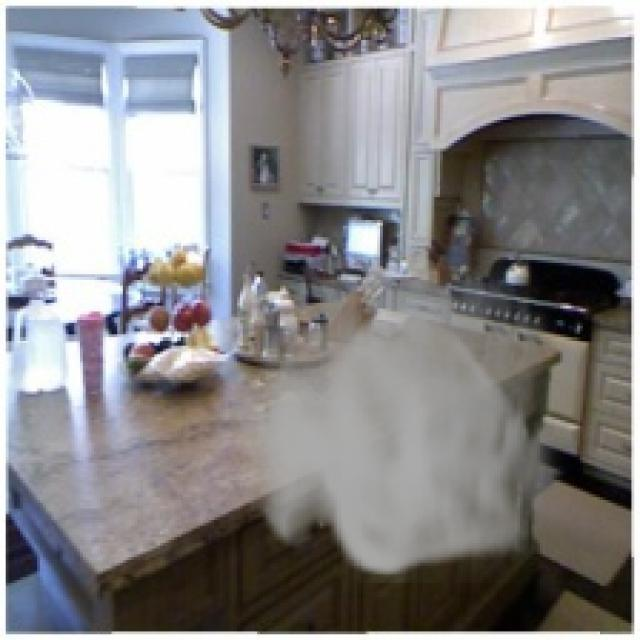smoke: (232, 211, 574, 583)
